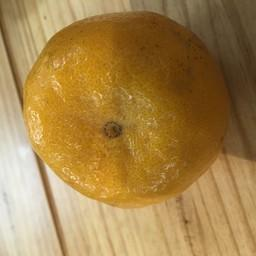Good_orange: (14, 10, 244, 213)
